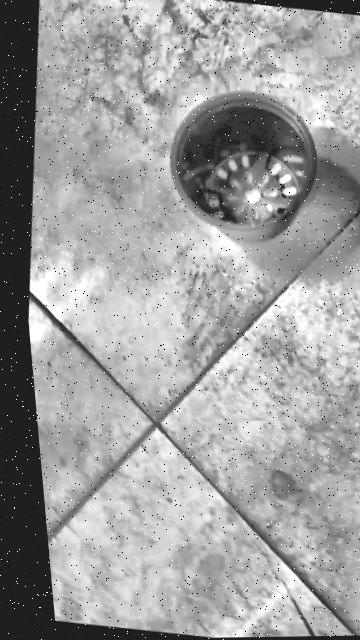pot: (154, 80, 331, 250)
